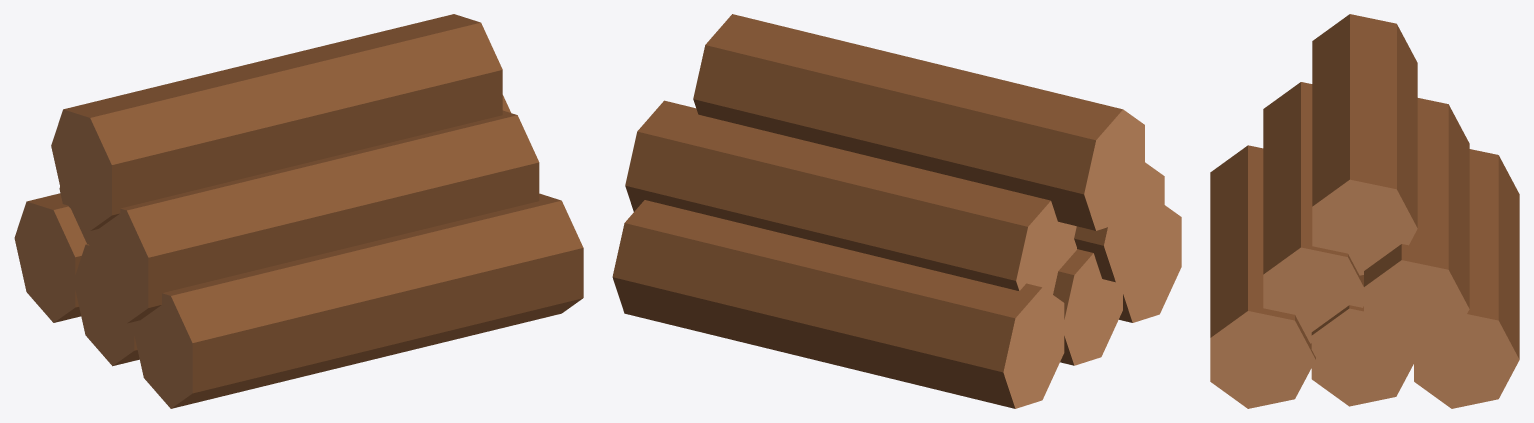
Rendered from woodenLogs.fbx.
3 renders of one model, left to right at view 1: azimuth 30°, elevation 25°; view 2: azimuth 150°, elevation 25°; view 3: azimuth 270°, elevation 25°, orthographic. The views are drawn at different scales.
Visible parts, largest first — view 1: woodenLogs; view 2: woodenLogs; view 3: woodenLogs.
Boxes of the visible parts, x1=… form: woodenLogs: x1=14, y1=14, x2=583, y2=408; woodenLogs: x1=612, y1=14, x2=1181, y2=408; woodenLogs: x1=1210, y1=14, x2=1519, y2=408.
Size of the model in its own units: 40.05 by 22.61 by 28.8.
